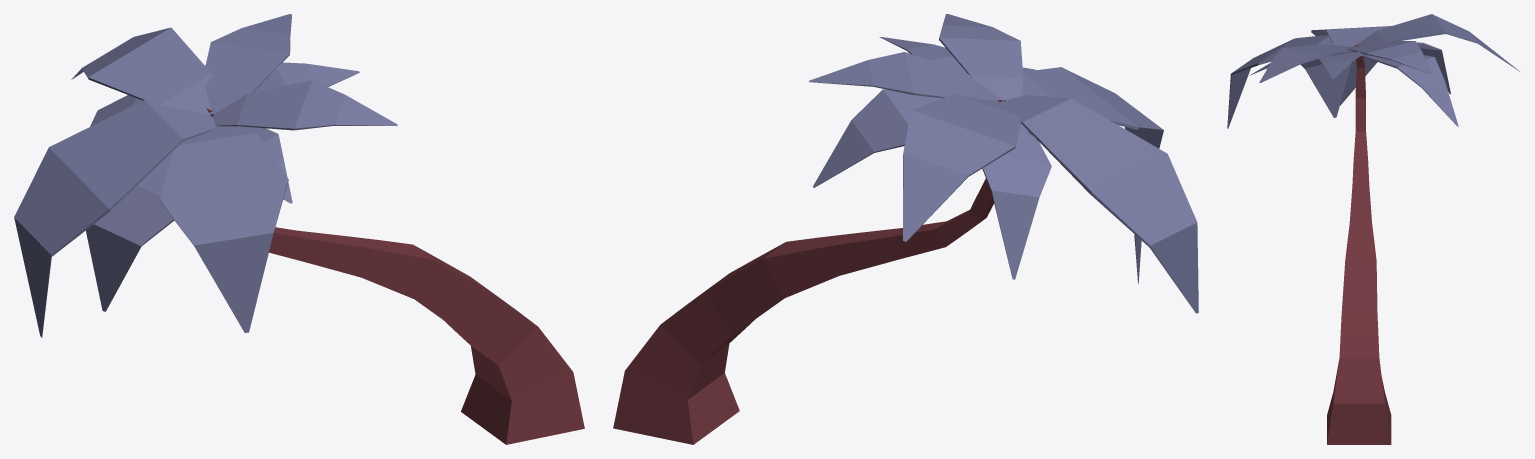
Rendered from Tree_A_02.fbx.
3 renders of one model, left to right at view 1: azimuth 30°, elevation 25°; view 2: azimuth 150°, elevation 25°; view 3: azimuth 270°, elevation 25°, orthographic. The views are drawn at different scales.
Visible parts, largest first — view 1: Tree_A_02; view 2: Tree_A_02; view 3: Tree_A_02.
Boxes of the visible parts, x1=… form: Tree_A_02: x1=14, y1=14, x2=584, y2=444; Tree_A_02: x1=613, y1=14, x2=1198, y2=444; Tree_A_02: x1=1227, y1=14, x2=1519, y2=444.
Size of the model in its own units: 626 by 471 by 419.
